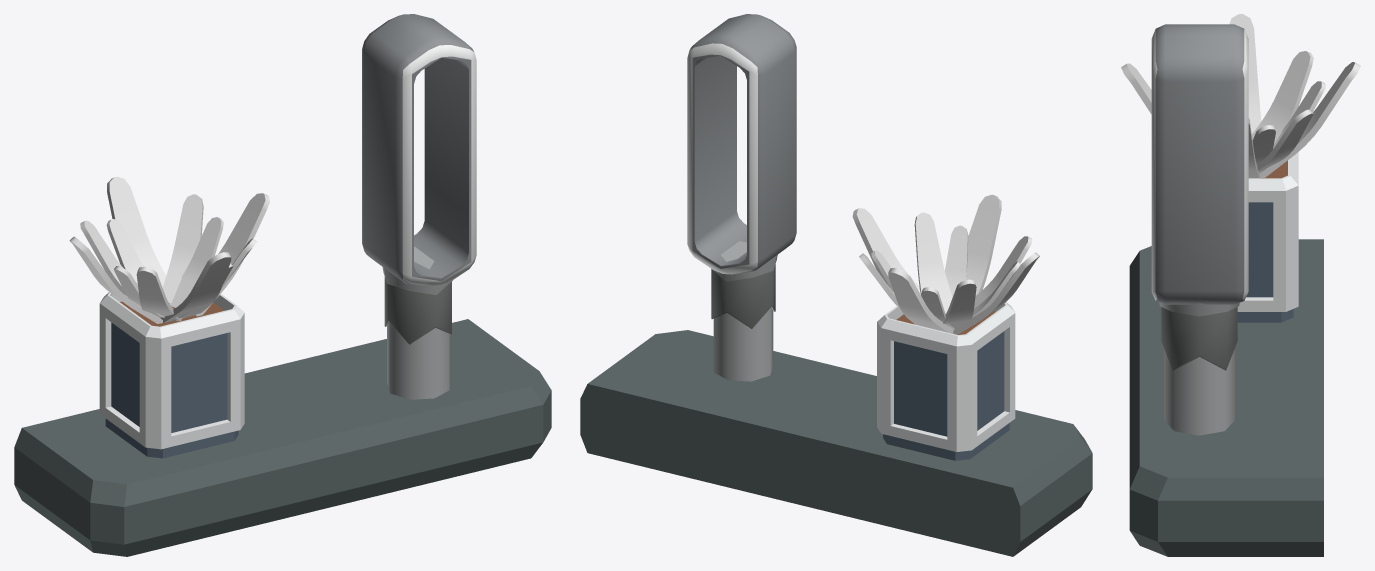
The model's file is Shelf-3.fbx.
The picture shows the model from 3 angles, left to right: view 1: azimuth 30°, elevation 25°; view 2: azimuth 150°, elevation 25°; view 3: azimuth 270°, elevation 25°; orthographic projection. The views are drawn at different scales.
Visible parts, largest first — view 1: Shelf, Air-Cleaner-Machine, Potted-Flower-3; view 2: Shelf, Air-Cleaner-Machine, Potted-Flower-3; view 3: Shelf, Air-Cleaner-Machine, Potted-Flower-3.
Part boxes in pixels (bbox=[...]): Shelf: bbox=[14, 319, 551, 556]; Air-Cleaner-Machine: bbox=[362, 14, 476, 399]; Potted-Flower-3: bbox=[69, 176, 269, 458]; Shelf: bbox=[580, 330, 1092, 556]; Air-Cleaner-Machine: bbox=[687, 14, 796, 381]; Potted-Flower-3: bbox=[852, 194, 1039, 460]; Shelf: bbox=[1129, 239, 1323, 556]; Air-Cleaner-Machine: bbox=[1151, 24, 1248, 435]; Potted-Flower-3: bbox=[1121, 14, 1360, 322].
Size of the model in its own units: 1.5 by 1.34 by 0.6156.
